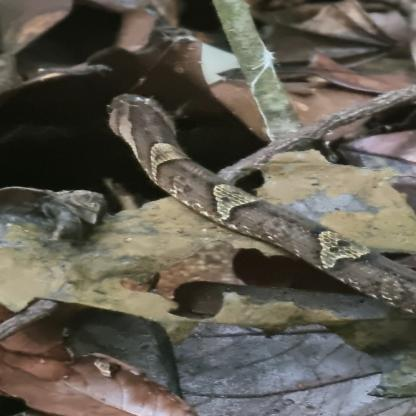Snake: (97, 85, 416, 329)
